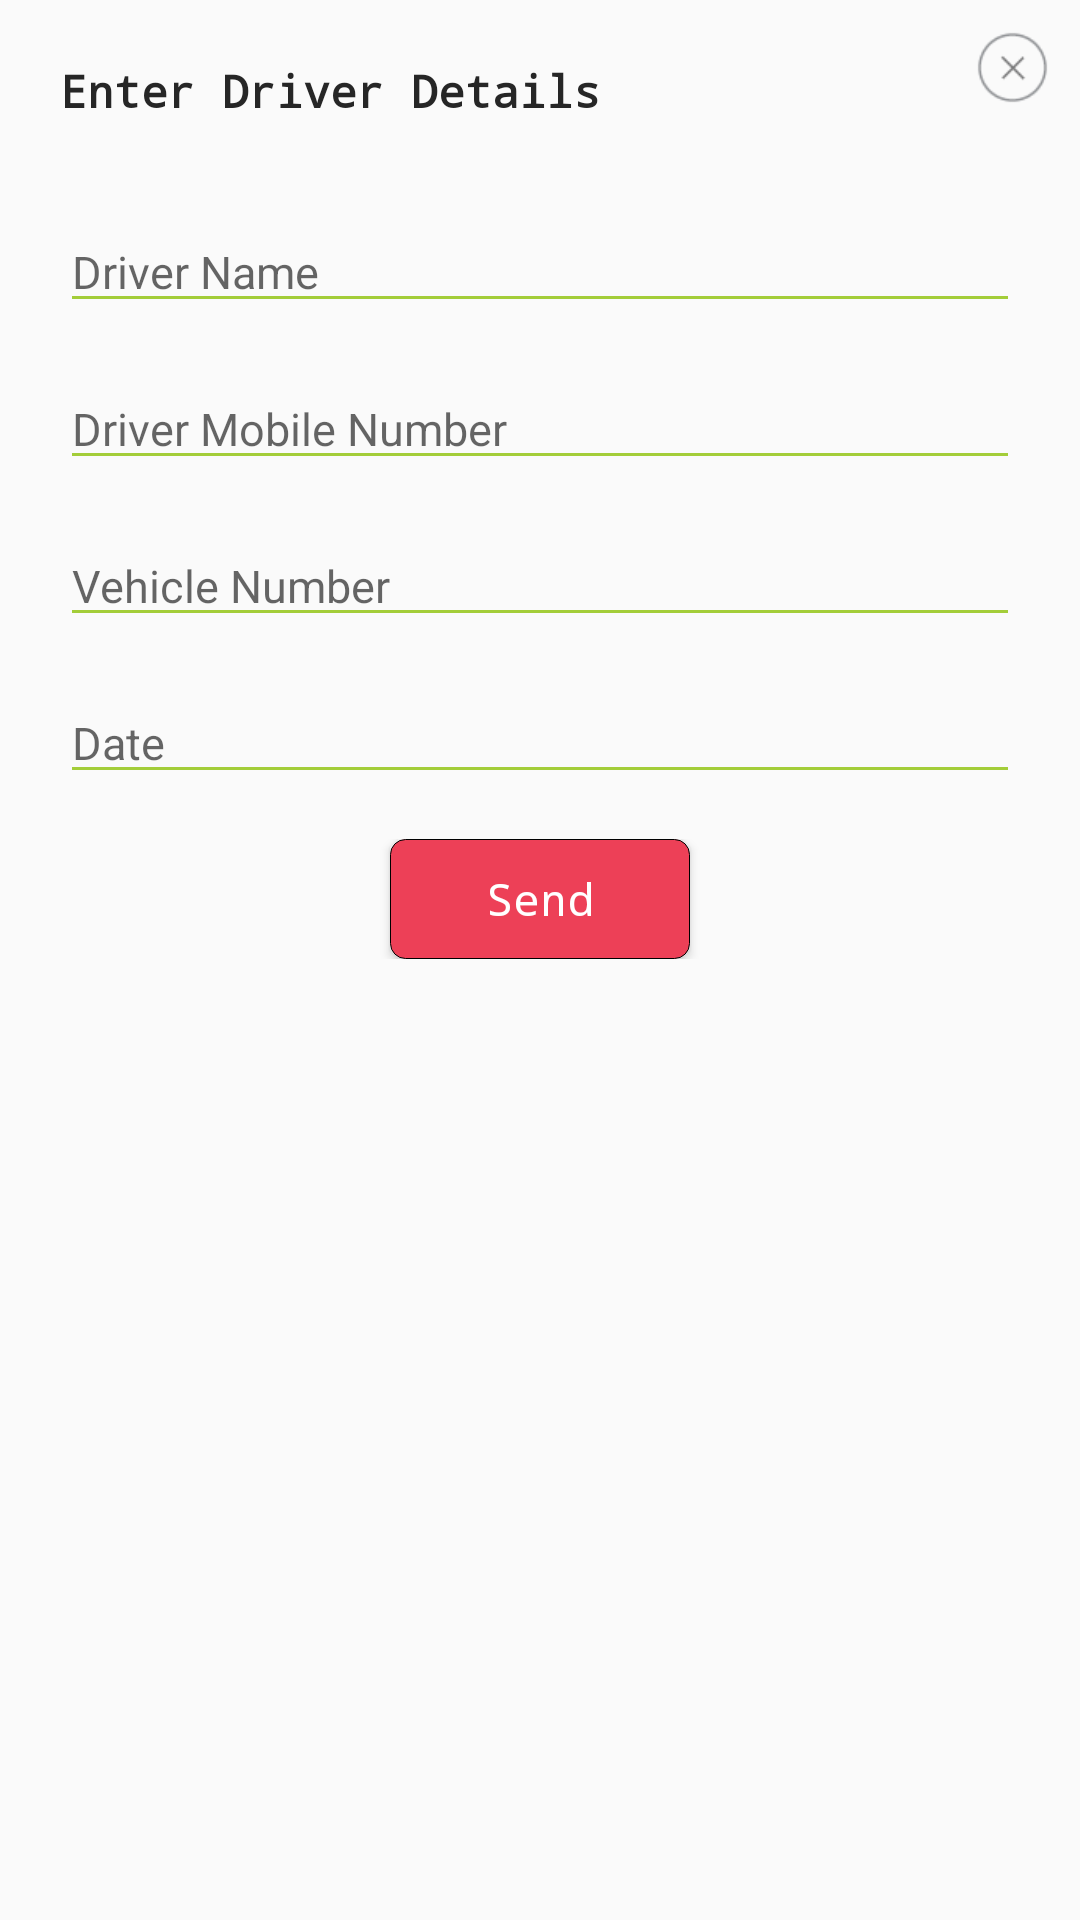

Named icons in this screenshot (1080x1920) and their bounding boxes, (x1, y1, x2, y2):
deleteicon: (978, 33, 1047, 102)
